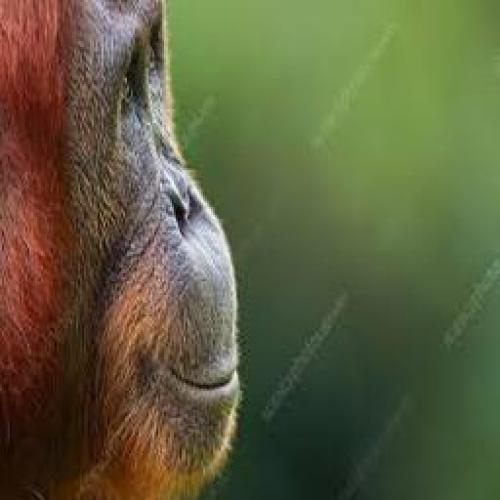orangutan-endangered: (0, 0, 238, 500)
